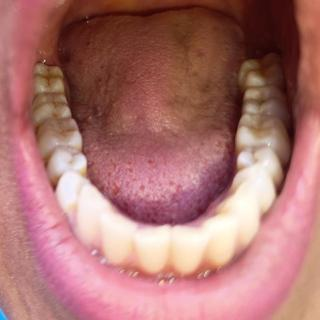LL1BC_healthy: (230, 165, 276, 212)
LL1M_mdecay: (234, 113, 291, 164)
LL2BC_healthy: (235, 147, 284, 186)
LL2M_sdecay: (243, 85, 289, 123)
LL3M_mdecay: (240, 52, 285, 85)
LLCI_healthy: (171, 224, 206, 274)
LLC_healthy: (218, 182, 259, 246)
LLLI_healthy: (204, 213, 237, 264)
LR1BC_healthy: (55, 170, 90, 216)
LR1M_mdecay: (37, 118, 82, 156)
LR2BC_mdecay: (46, 147, 88, 186)
LR2M_mdecay: (30, 93, 70, 127)
LR3M_mdecay: (31, 63, 65, 94)
LRCI_healthy: (133, 223, 170, 273)
LRC_healthy: (74, 183, 122, 241)
LRLI_healthy: (101, 215, 135, 261)
